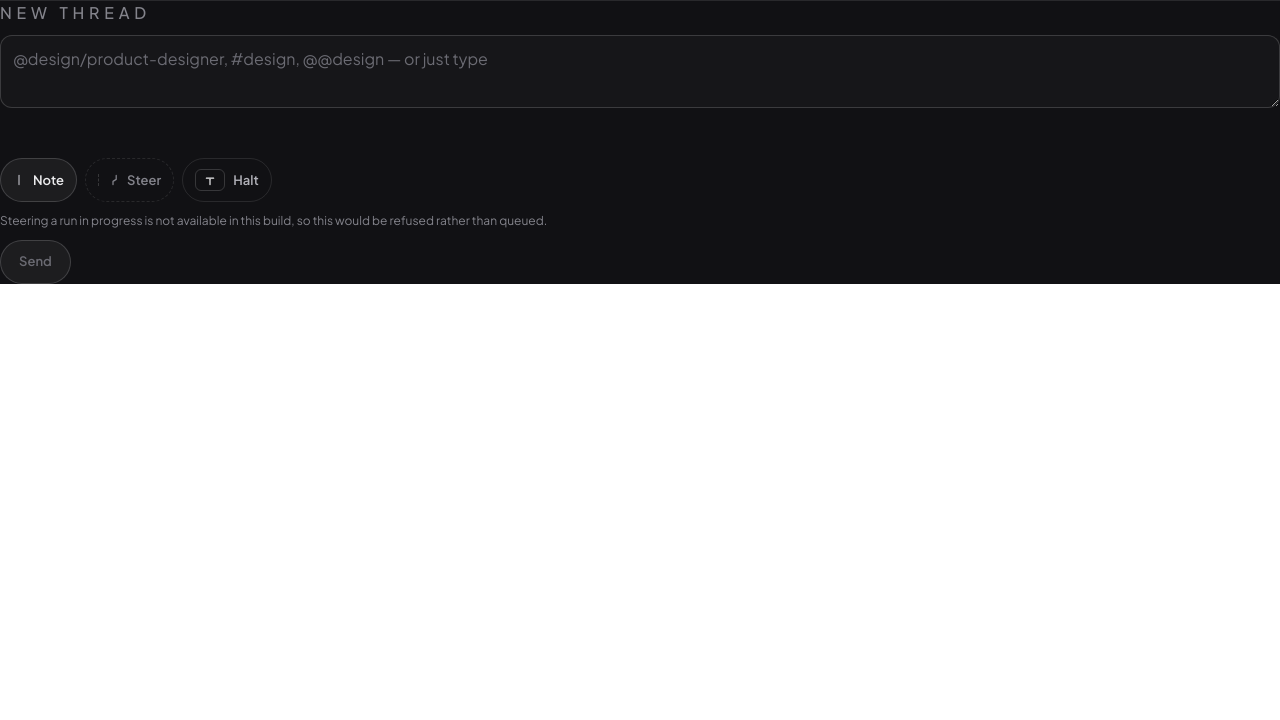
Scenario: the fan-out confirm (BOARD · Plan §23.11 rule 7) › does not send on submit — it raises a confirm that NAMES THE COUNT
The width and height of the screenshot is (1280, 720).
Type "@@sales ship it" into the text box. click: (640, 72)
box: left=0, top=35, right=1279, bottom=108
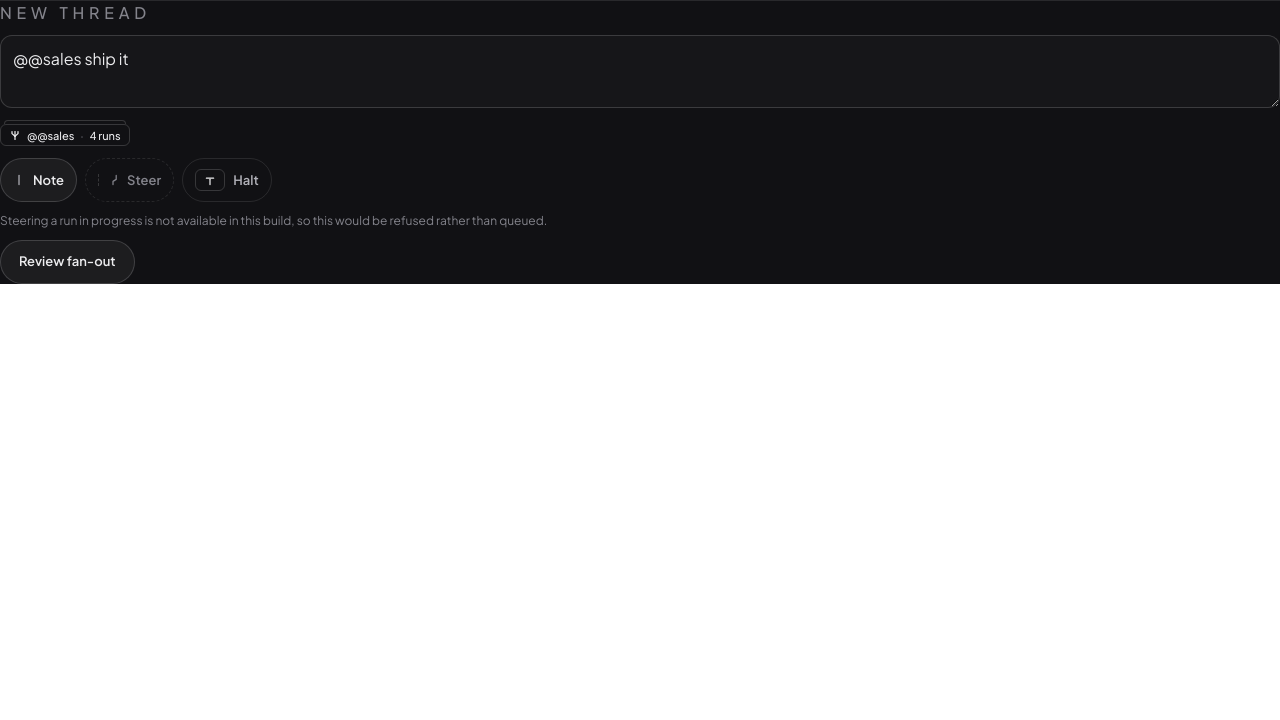
Submit the form, box left=0, top=0, right=1279, bottom=284
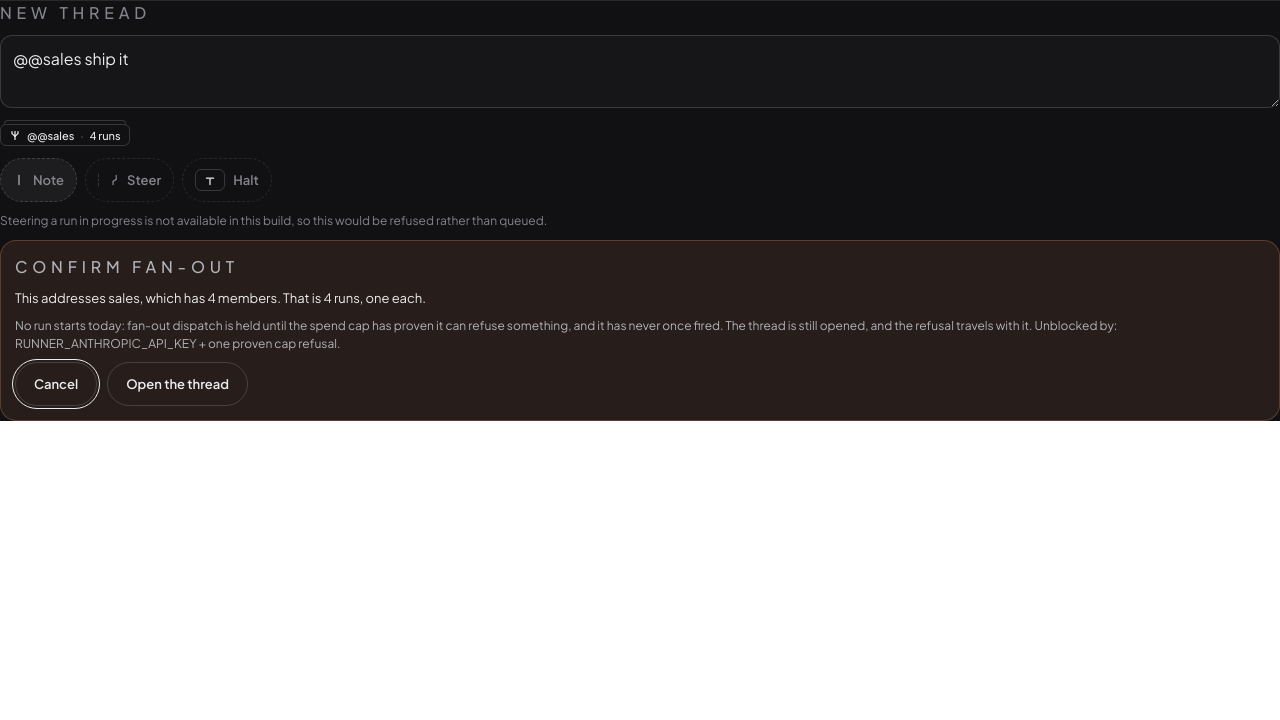
expect the dialog shows "4": met, box left=15, top=290, right=426, bottom=306
expect the dialog shows "sales": met, box left=15, top=290, right=426, bottom=306
